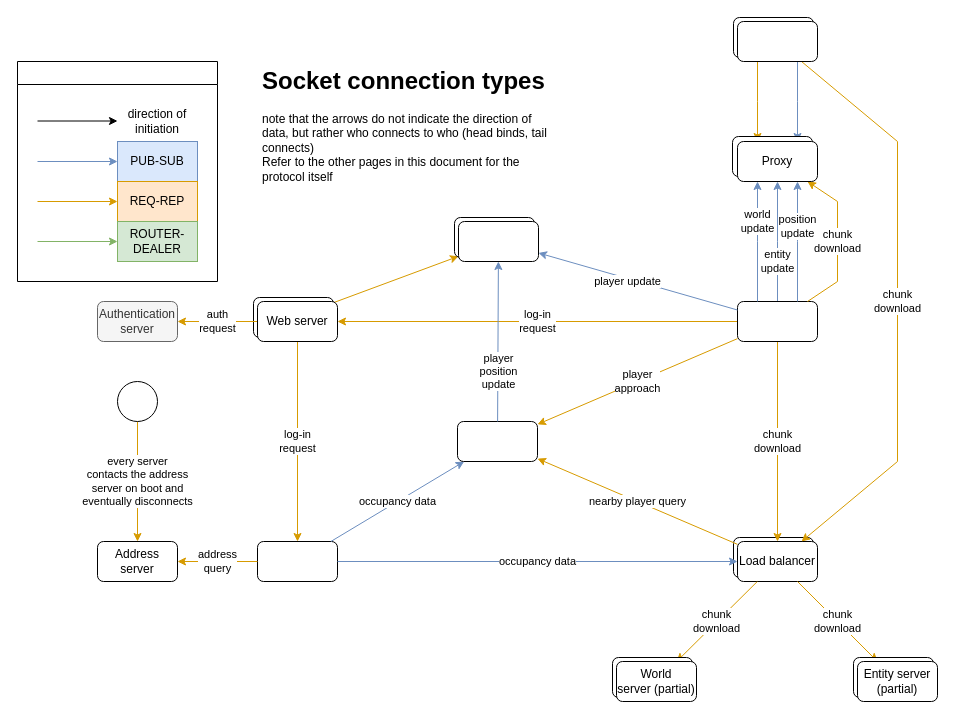
Image size: 955x719. Some labels were removed from this diagram. Each missing label, with the box of its shape:
Legend: (16, 60, 218, 282)
Log-in server: (256, 540, 338, 582)
Player: (736, 300, 818, 342)
Player (other): (736, 20, 818, 62)
Player data server: (458, 220, 538, 262)
Player position server: (456, 420, 538, 462)
